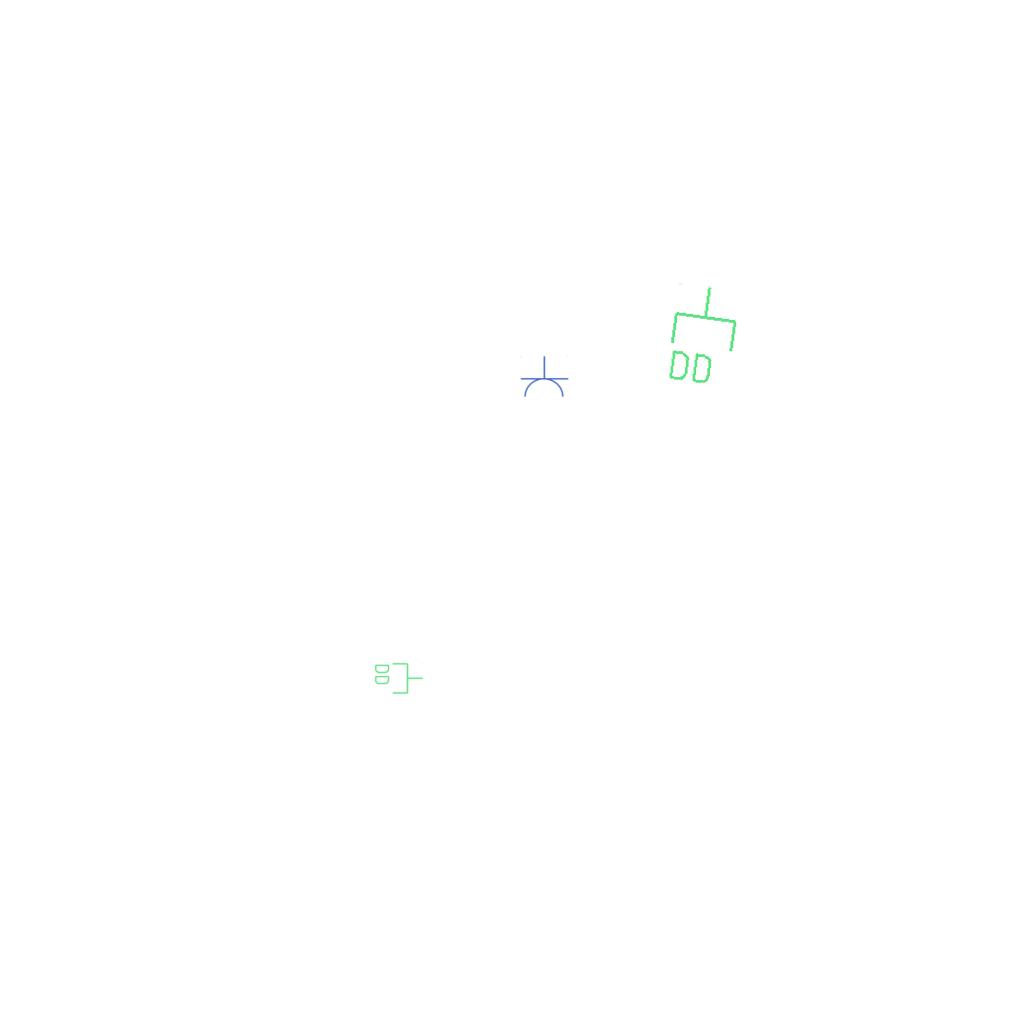Datenanschluss_zweifach: (661, 279, 744, 392), (373, 661, 424, 695)
Schukosteckdose_einfach: (519, 356, 569, 399)
